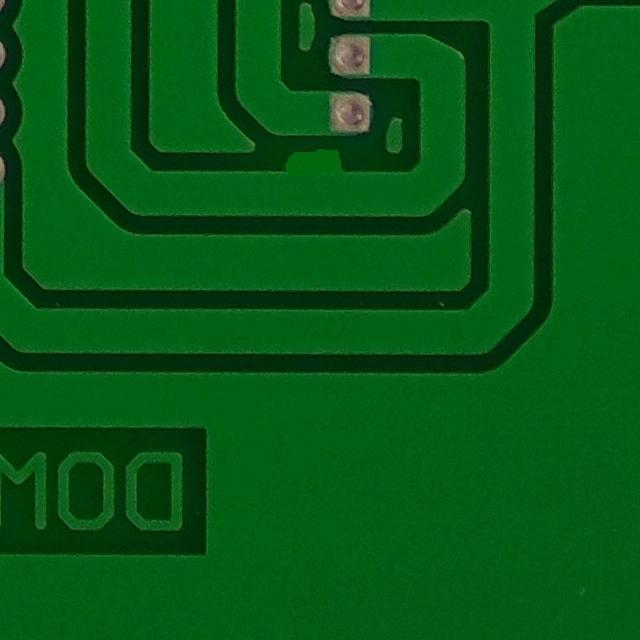spur: (264, 139, 362, 195)
